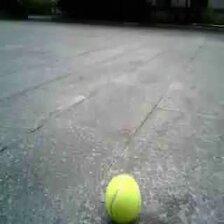tennis: (106, 175, 142, 220)
